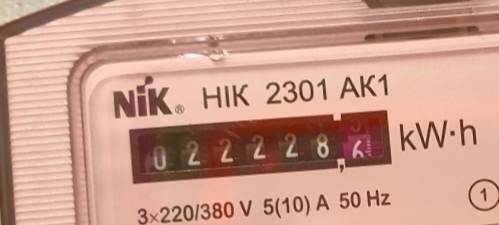0: (149, 141, 167, 171)
2: (182, 136, 203, 167), (281, 130, 301, 160), (248, 131, 267, 160), (216, 134, 234, 164)
5: (346, 113, 364, 134)
6: (348, 136, 366, 158)
8: (313, 130, 331, 159)
screen: (119, 96, 402, 193)
